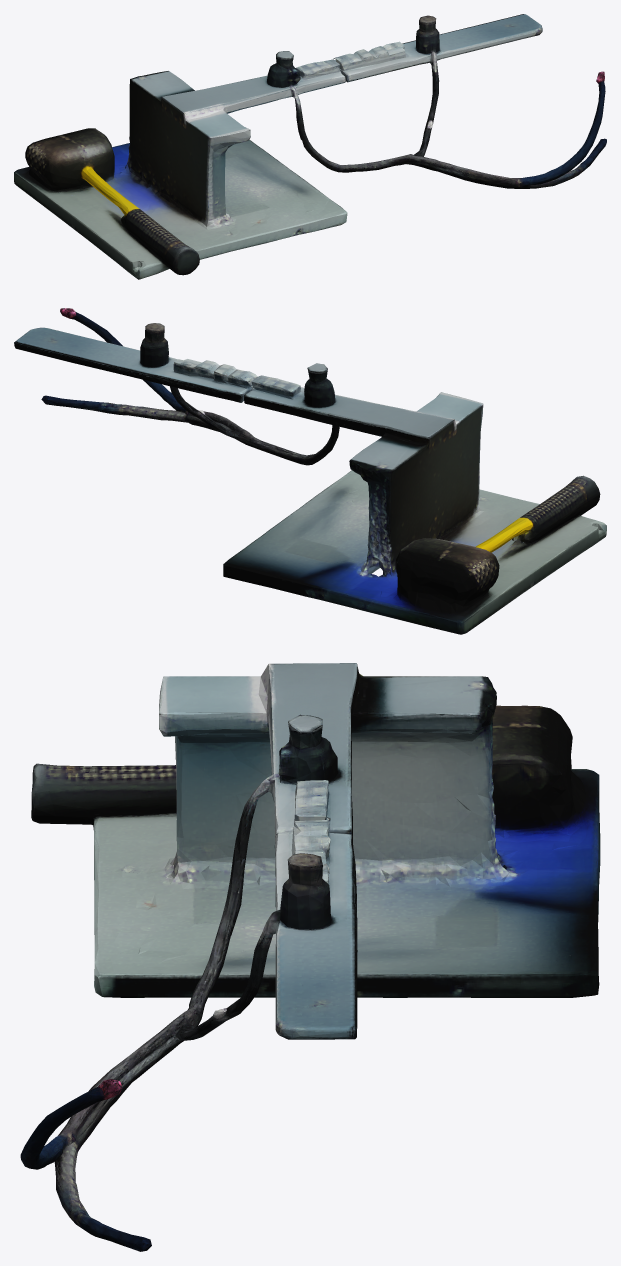
The model's file is Sistema de monitoreo ferroviario.glb.
3 views of the same model, one above another, from view 1: azimuth 30°, elevation 25°; view 2: azimuth 150°, elevation 25°; view 3: azimuth 270°, elevation 25° (orthographic). The views are drawn at different scales.
Parts seen in each view (by area): view 1: world; view 2: world; view 3: world.
Part boxes in pixels (left/top/right/bottom): world: left=14, top=14, right=606, bottom=279; world: left=14, top=308, right=606, bottom=634; world: left=20, top=663, right=600, bottom=1251.
Bounding box in the file's own units: 1 × 0.2762 × 0.5217.
1 material, 1 textured.
